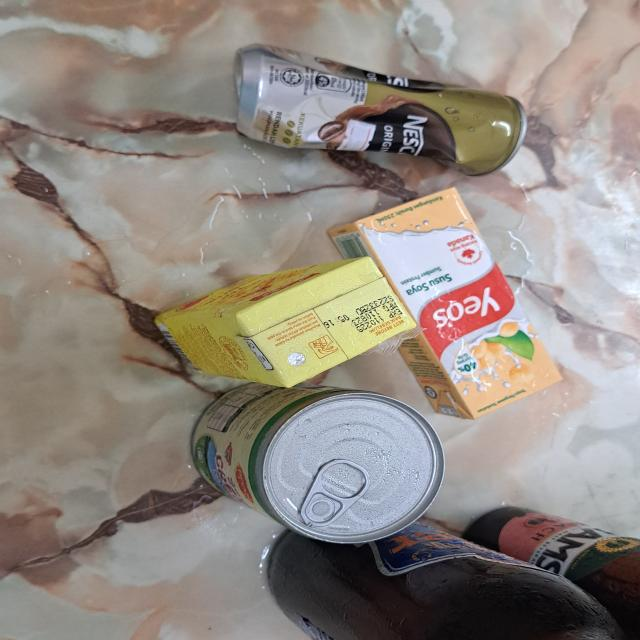can: (187, 380, 443, 542), (233, 44, 526, 178)
drink carton: (327, 184, 564, 423), (150, 255, 418, 389)
glass bottle: (266, 514, 620, 640), (459, 504, 640, 640)
pop tab: (301, 457, 368, 526)
